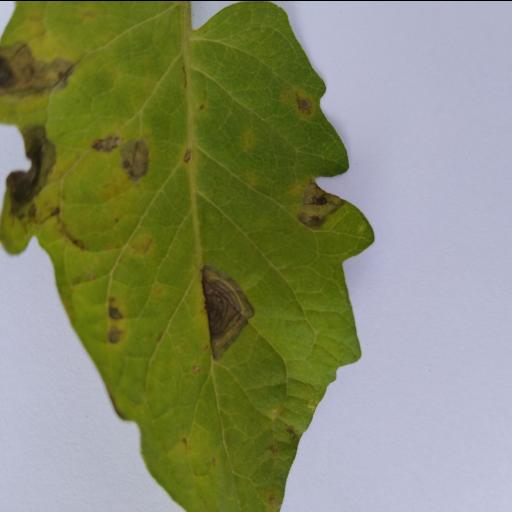Early Blight: (0, 0, 377, 512)
